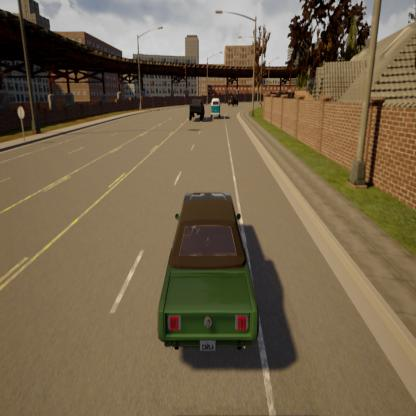Cars: (157, 191, 257, 355), (190, 97, 204, 122), (211, 99, 221, 119), (227, 93, 238, 107)
